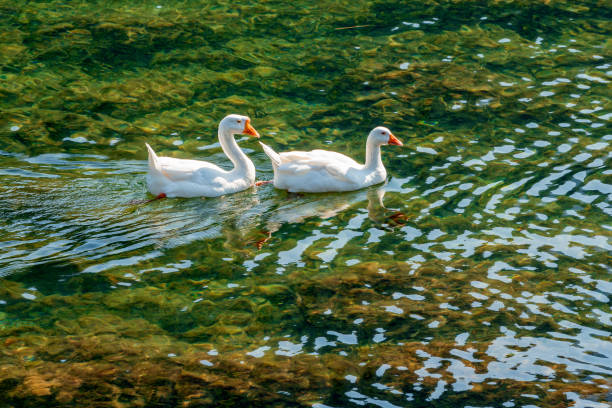goose: (117, 113, 268, 212), (252, 120, 409, 203)
